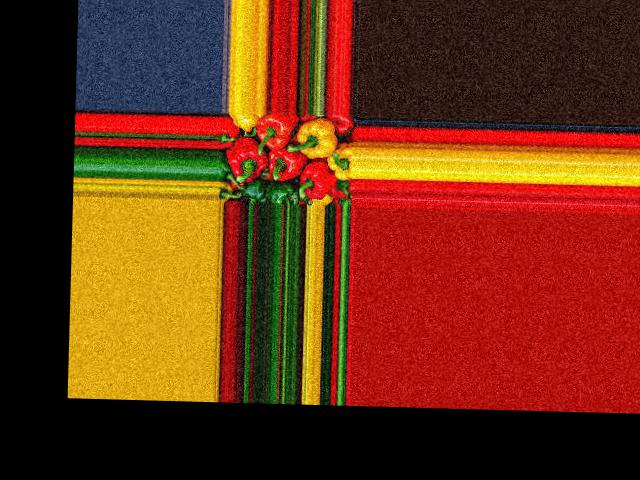bell_pepper: (233, 111, 257, 130)
